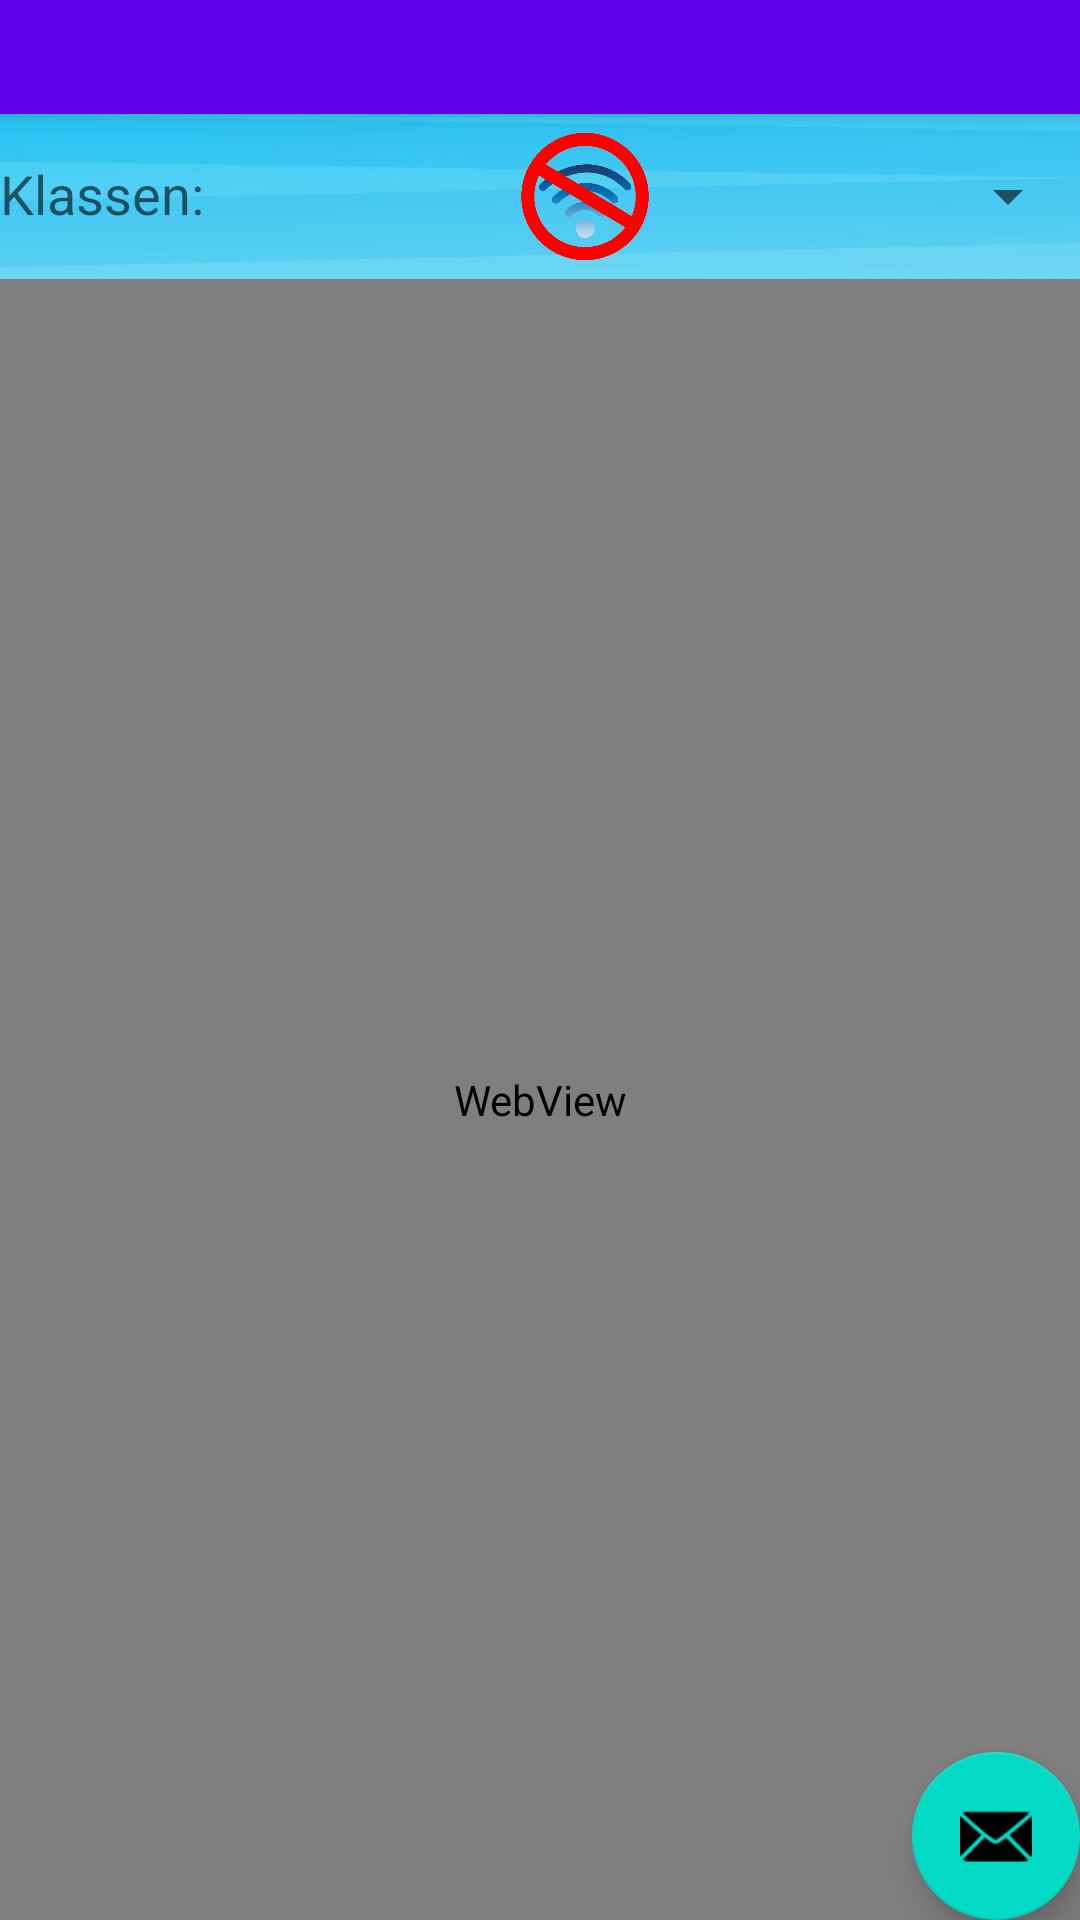

Locate icon controls on the screen. Image size 1080px x 1920px, boxes as box(x1, y1, x2, y2).
email: box(912, 1752, 1080, 1920)
